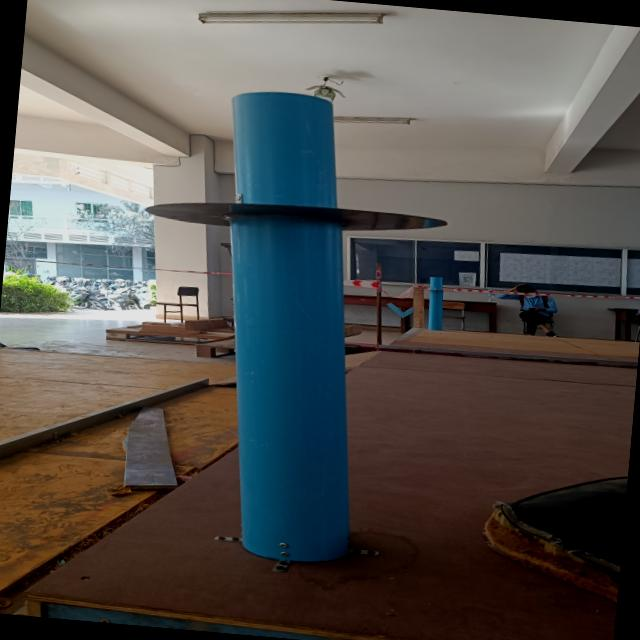pole: (94, 71, 448, 358)
